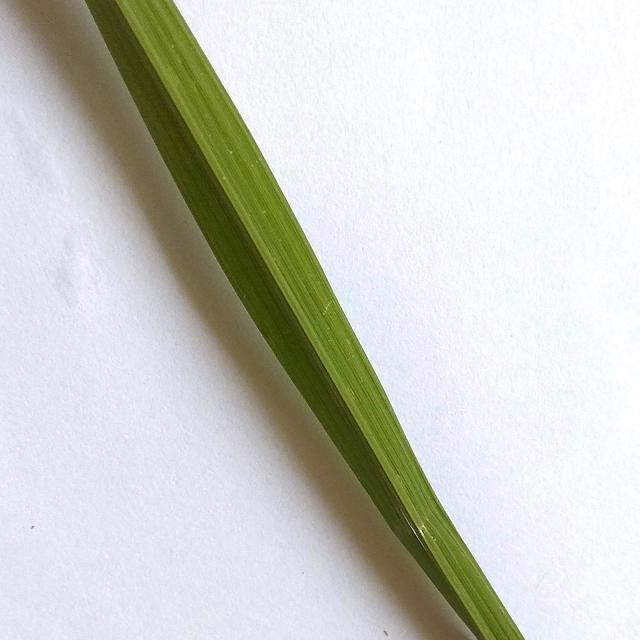healthy: (76, 0, 538, 640)
